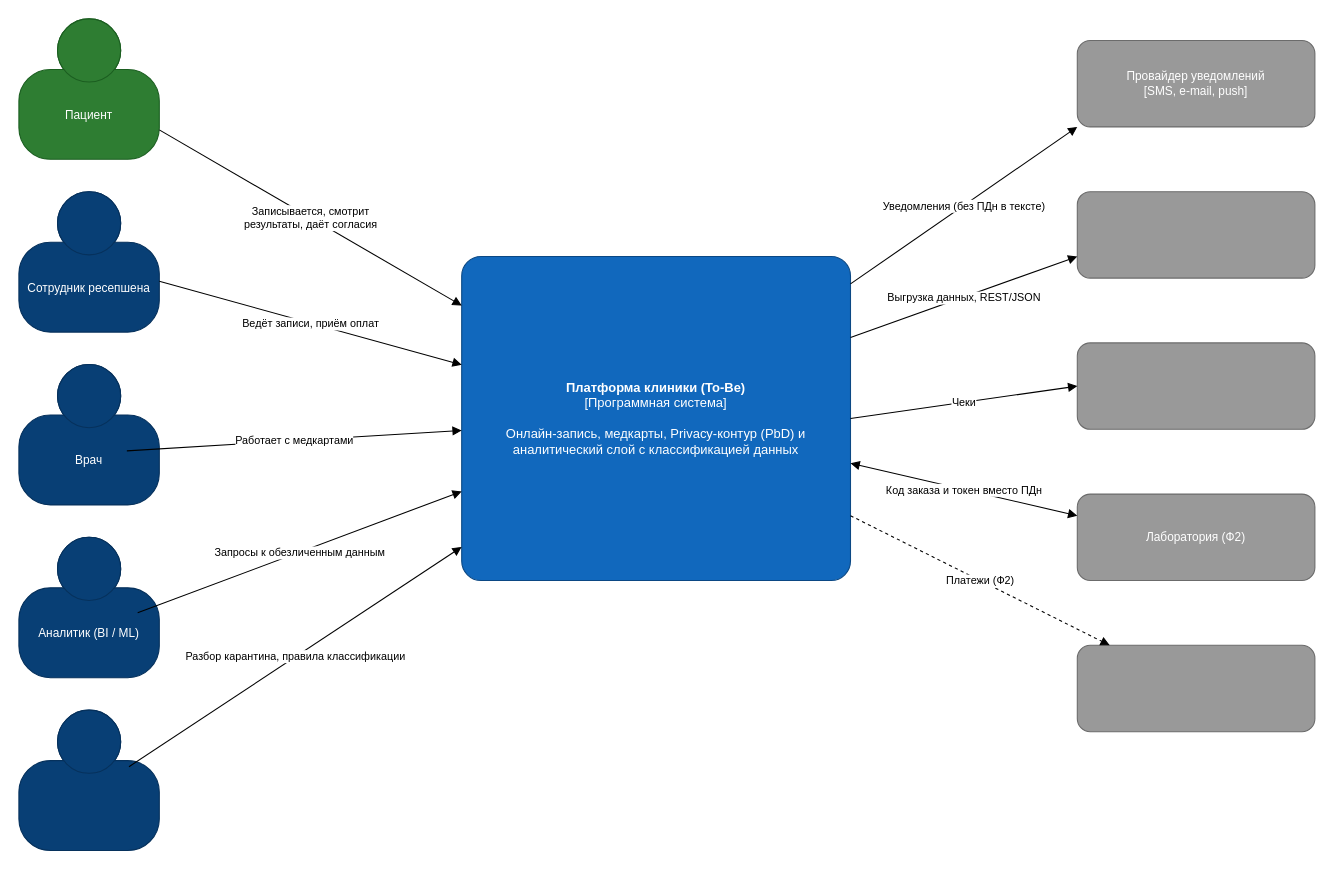
Some shapes in this 1334 by 869 pixel diagram are drawn without their labels. Here are the shapes that lost their labels. From the top down, the box of each, then its label:
(1076, 191, 1315, 278): 1С:Бухгалтерия
(1076, 342, 1315, 429): ККМ (онлайн-касса)
(1076, 644, 1315, 732): Платёжный шлюз и CRM (Ф2)
(18, 709, 159, 850): Data steward / офицер ПДн
